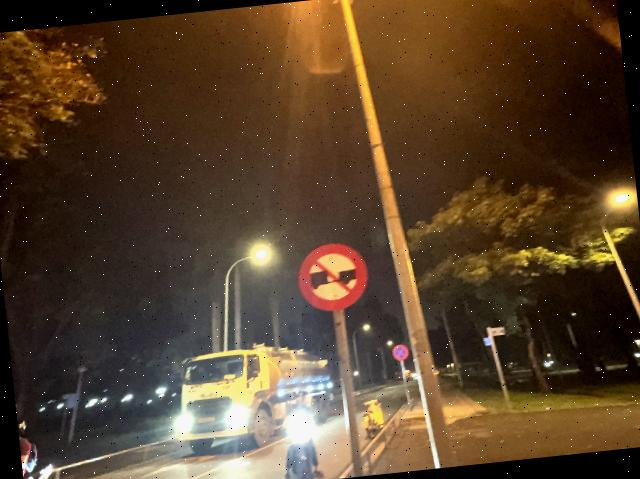cam-xe-somi-romooc: (295, 239, 372, 314)
